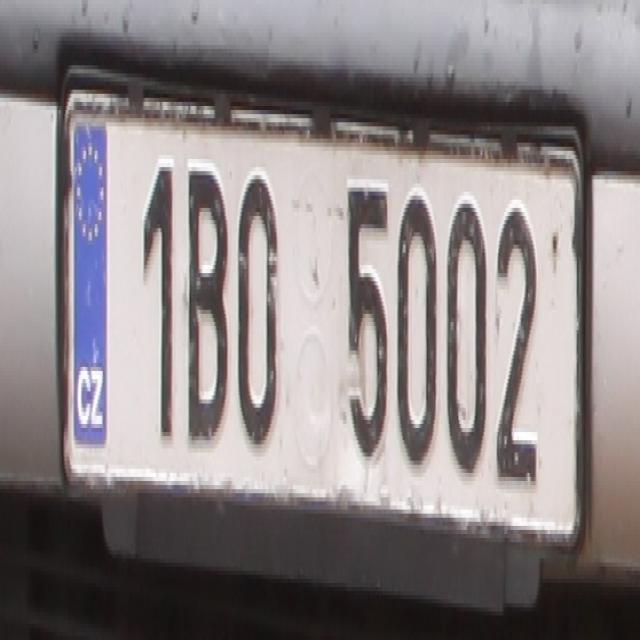0: (444, 200, 490, 477), (394, 184, 438, 456), (236, 172, 277, 448)
1: (142, 155, 174, 432)
2: (492, 196, 542, 490)
5: (346, 175, 390, 452)
B: (183, 154, 229, 448)
